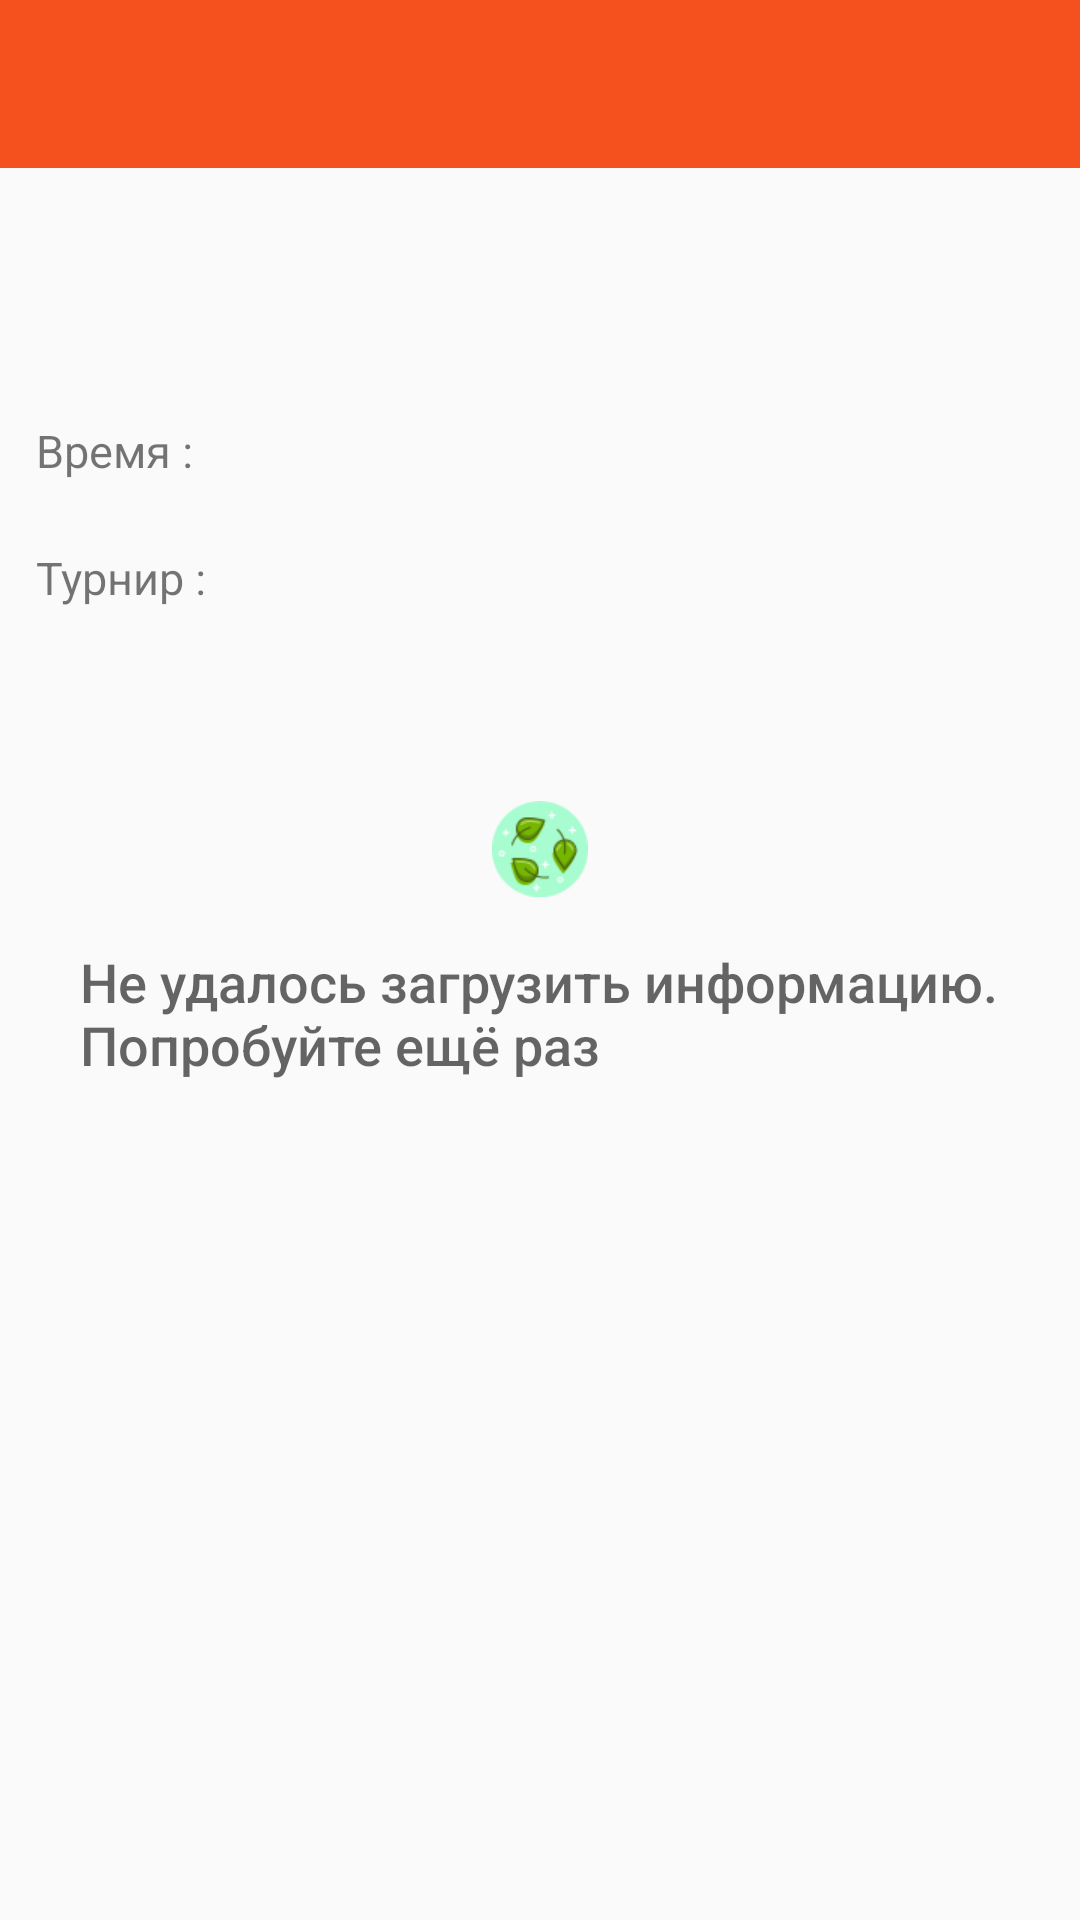

Icon click points for this 1080px x 1920px phone screenshot, format [x,y]:
if recycling: [540,849]
